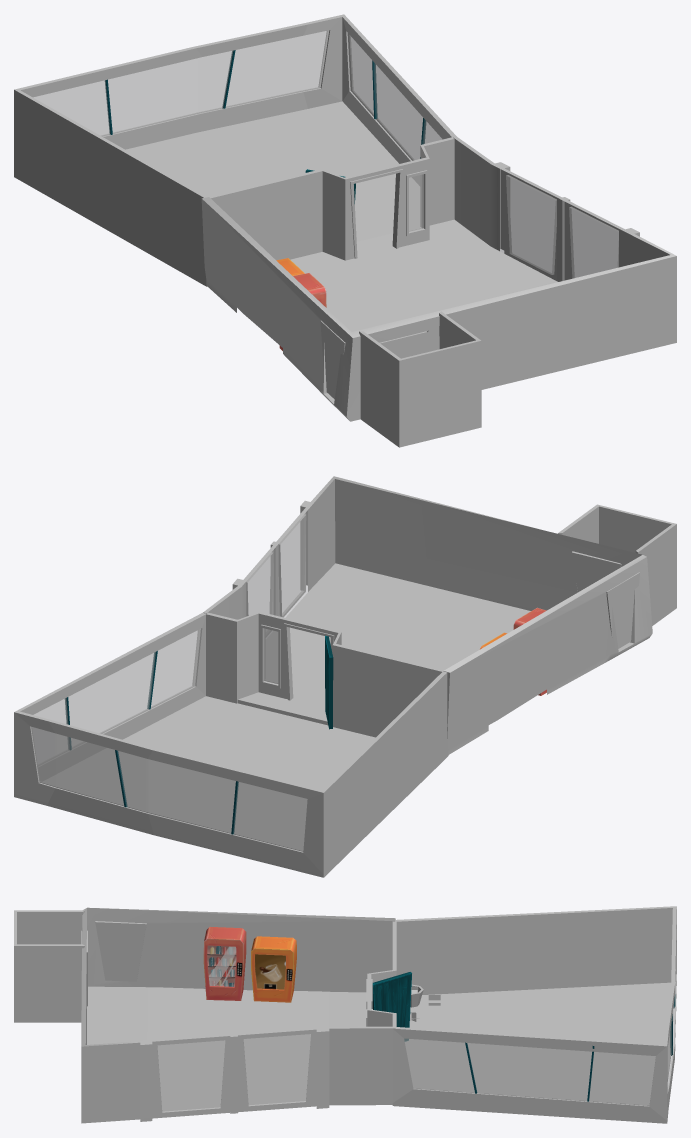
Rendered from rooms_text.fbx.
3 views of the same model, one above another, from view 1: azimuth 30°, elevation 25°; view 2: azimuth 150°, elevation 25°; view 3: azimuth 270°, elevation 25° (orthographic). The views are drawn at different scales.
Visible parts, largest first — view 1: classroom_walls, hall_walls, classroom_ground, hall_ground, toilet_walls, toilets_door1, toilets_door; view 2: classroom_walls, hall_walls, classroom_ground, hall_ground, toilet_walls, toilets_door1, toilets_door, classroom_door; view 3: classroom_walls, hall_walls, classroom_ground, hall_ground, toilet_walls, snack_dispenser1, snack_dispenser, toilets_door1, classroom_door.
Part boxes in pixels (left/top/right/bottom): classroom_walls: left=14, top=14, right=456, bottom=286; hall_walls: left=201, top=136, right=676, bottom=421; classroom_ground: left=125, top=101, right=419, bottom=241; hall_ground: left=290, top=219, right=557, bottom=331; toilet_walls: left=359, top=311, right=481, bottom=447; toilets_door1: left=320, top=320, right=345, bottom=398; toilets_door: left=379, top=331, right=427, bottom=358; classroom_walls: left=14, top=611, right=448, bottom=877; hall_walls: left=203, top=476, right=652, bottom=754; classroom_ground: left=43, top=696, right=375, bottom=849; hall_ground: left=238, top=563, right=530, bottom=720; toilet_walls: left=558, top=504, right=676, bottom=625; toilets_door1: left=606, top=572, right=639, bottom=648; toilets_door: left=572, top=551, right=621, bottom=592; classroom_door: left=325, top=635, right=333, bottom=729; classroom_walls: left=366, top=906, right=676, bottom=1123; hall_walls: left=81, top=907, right=395, bottom=1123; classroom_ground: left=405, top=982, right=671, bottom=1104; hall_ground: left=87, top=986, right=366, bottom=1111; toilet_walls: left=14, top=910, right=84, bottom=1022; snack_dispenser1: left=203, top=927, right=246, bottom=1000; snack_dispenser: left=251, top=936, right=296, bottom=1002; toilets_door1: left=95, top=921, right=146, bottom=981; classroom_door: left=372, top=972, right=411, bottom=1041.
Bounding box in the file's own units: 2803 × 733 × 5520.
